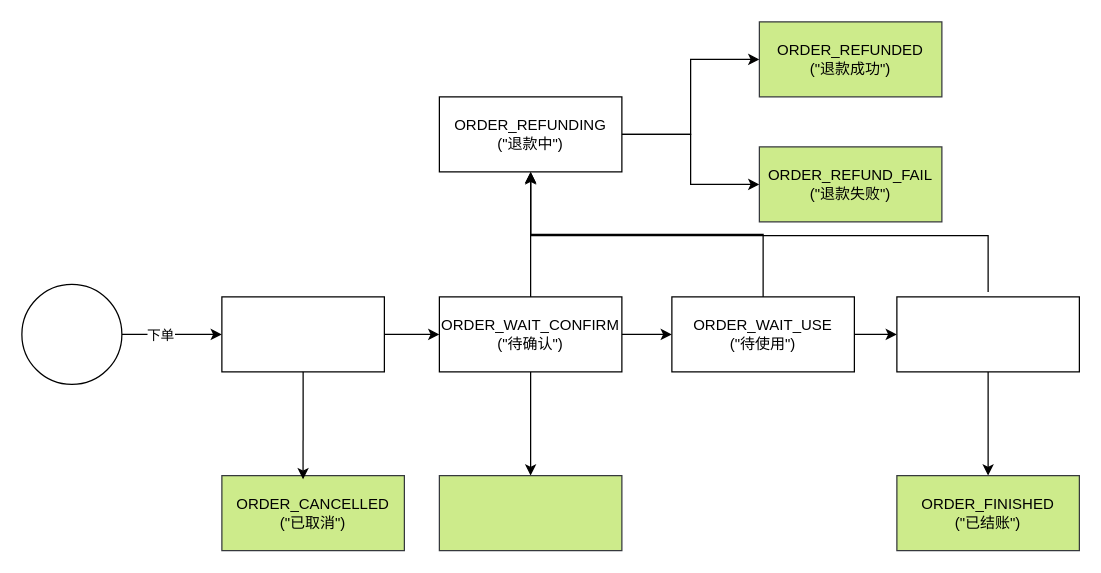
Image size: 1101x573. Some labels were removed from this diagram. Here are the shapes that lost their labels. From the top down, the box of each, then its label:
(221, 296, 384, 372): ORDER_WAIT_PAY ("待支付")
(896, 296, 1079, 372): ORDER_CHECKED_IN ("已入住")
(438, 474, 622, 551): ORDER_REJECTED ("已拒绝")
